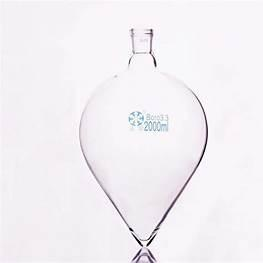Titrarion: (74, 19, 209, 244)
